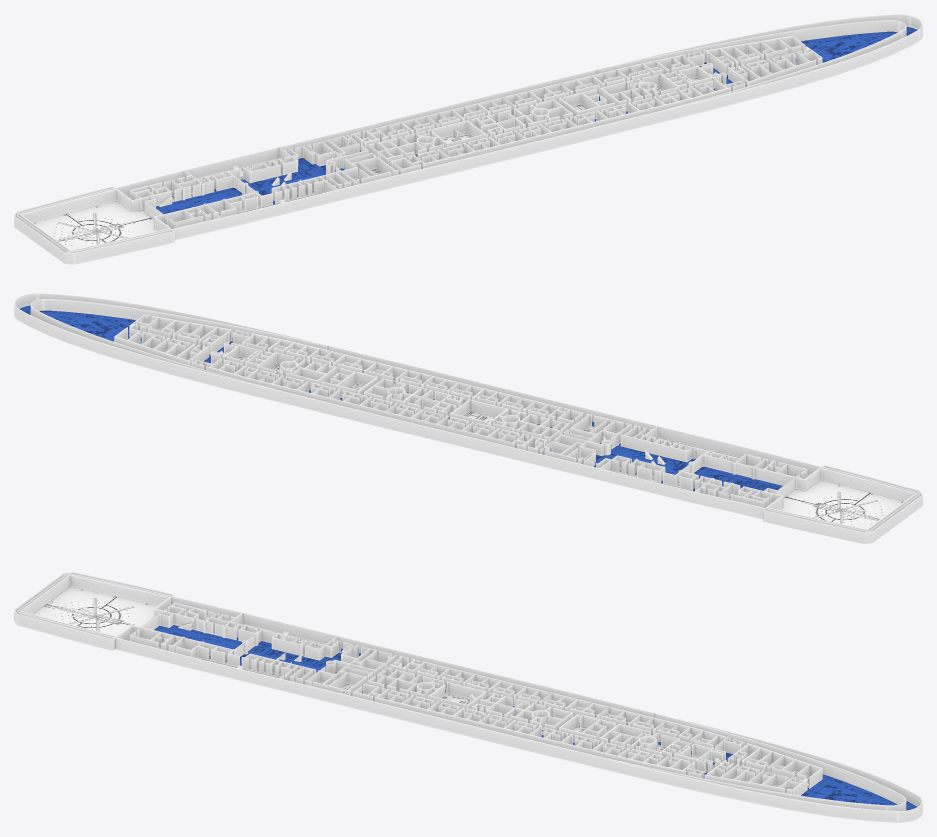
The model's file is jianJiaBan.fbx.
3 renders of one model, top to bottom at view 1: azimuth 30°, elevation 25°; view 2: azimuth 150°, elevation 25°; view 3: azimuth 330°, elevation 25°, orthographic.
Parts seen in each view (by area): view 1: pCube470; view 2: pCube470; view 3: pCube470.
Part boxes in pixels (x1=…): pCube470: x1=14, y1=14, x2=922, y2=264; pCube470: x1=14, y1=293, x2=922, y2=543; pCube470: x1=14, y1=572, x2=922, y2=822.
Size of the model in its own units: 25520 by 3093 by 316.
